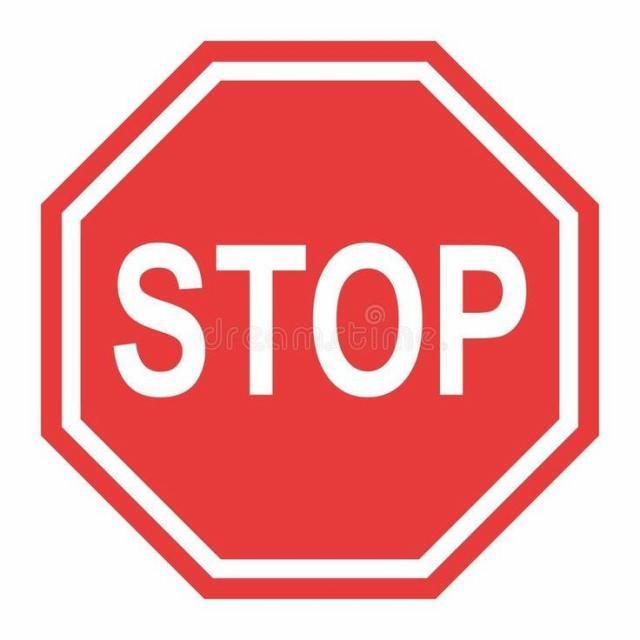stop: (38, 38, 601, 600)
